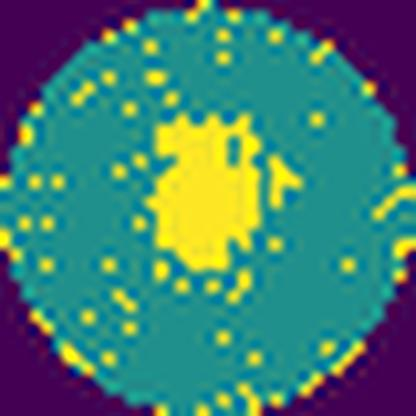Center: (143, 110, 266, 276)
